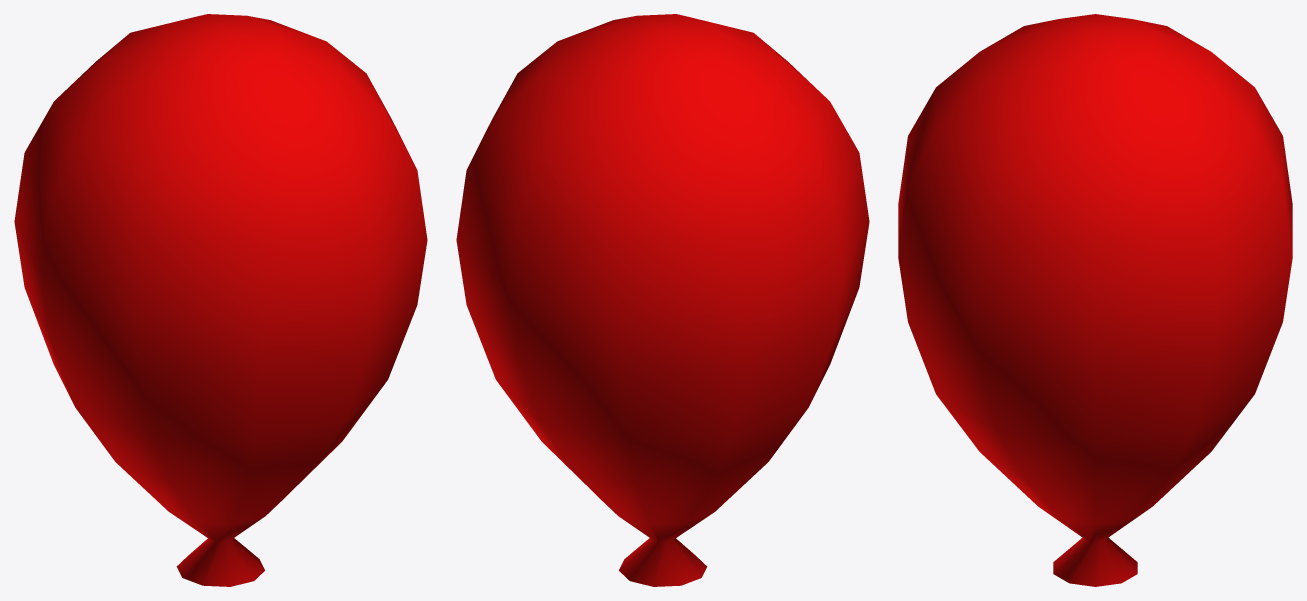
Rendered from Balloon.fbx.
3 renders of one model, left to right at view 1: azimuth 30°, elevation 25°; view 2: azimuth 150°, elevation 25°; view 3: azimuth 270°, elevation 25°, orthographic.
Visible parts, largest first — view 1: Balloon; view 2: Balloon; view 3: Balloon.
Part boxes in pixels (bbox=[...]): Balloon: bbox=[14, 14, 427, 586]; Balloon: bbox=[456, 14, 869, 586]; Balloon: bbox=[898, 14, 1292, 586].
Bounding box in the file's own units: 3.57 × 5.1 × 3.4.
